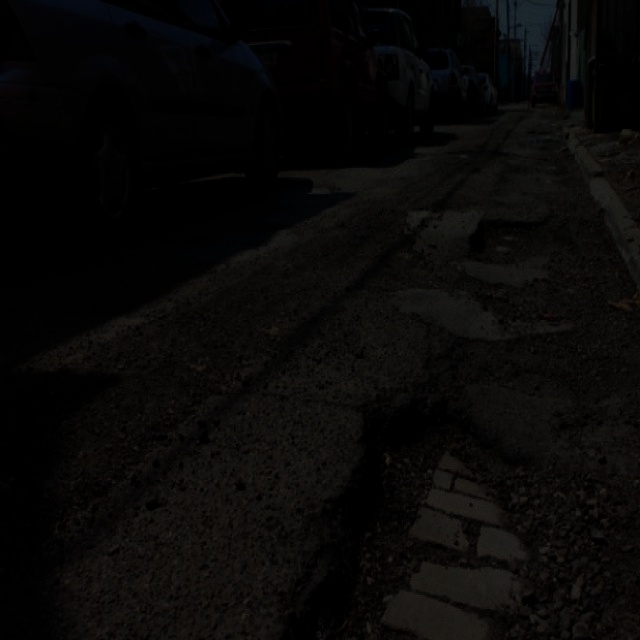Pothole: (280, 370, 542, 638), (469, 208, 544, 263)
